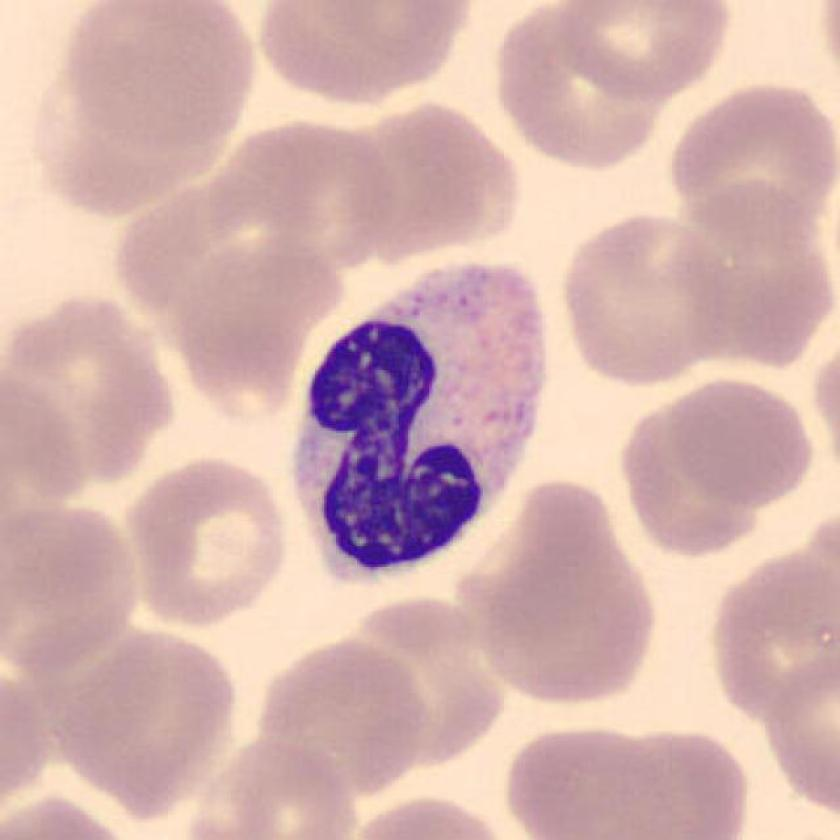neutrophil: (298, 265, 543, 580)
